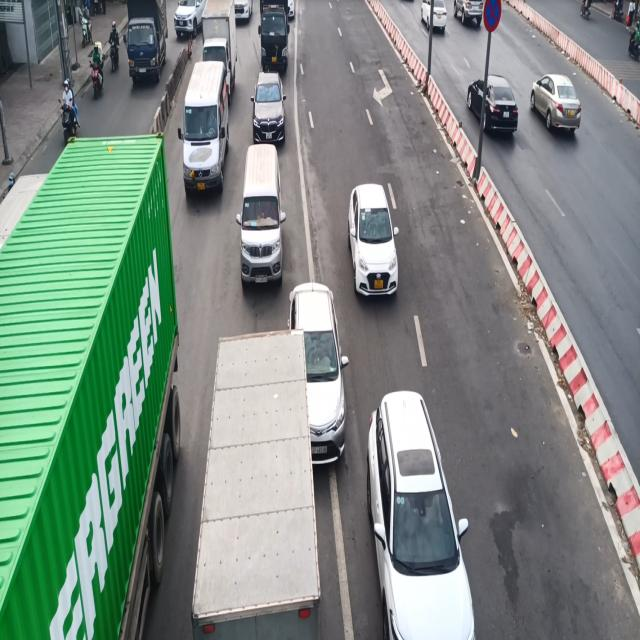car: (364, 386, 473, 640), (235, 138, 286, 300), (344, 180, 404, 304), (253, 70, 288, 137)
motor: (86, 41, 108, 98), (108, 18, 122, 79)
